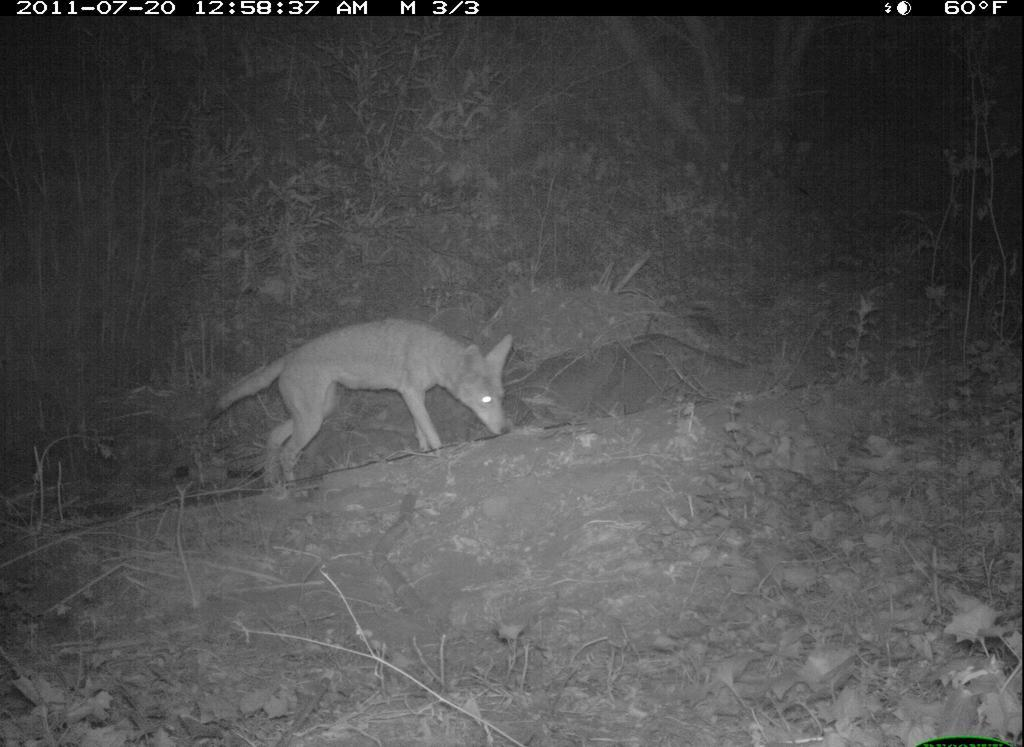coyote: (200, 312, 523, 498)
